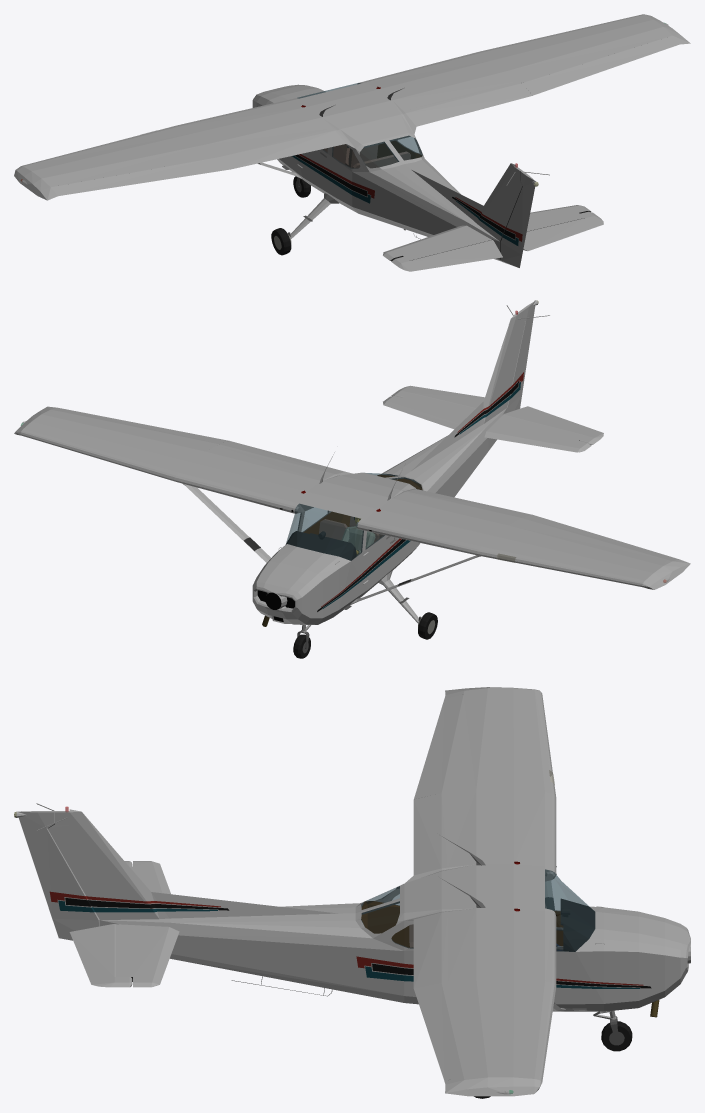
3 renders of one model, top to bottom at view 1: azimuth 30°, elevation 25°; view 2: azimuth 150°, elevation 25°; view 3: azimuth 270°, elevation 25°, orthographic. The views are drawn at different scales.
Visible parts, largest first — view 1: ShapeIndexedFaceSet.048_ShapeIndexedFaceSet.049, ShapeIndexedFaceSet_ShapeIndexedFaceSet.001, ShapeIndexedFaceSet.047_ShapeIndexedFaceSet.048, ShapeIndexedFaceSet.060_ShapeIndexedFaceSet.061, ShapeIndexedFaceSet.059_ShapeIndexedFaceSet.060, ShapeIndexedFaceSet.055_ShapeIndexedFaceSet.056, ShapeIndexedFaceSet.057_ShapeIndexedFaceSet.058, ShapeIndexedFaceSet.147_ShapeIndexedFaceSet.148, ShapeIndexedFaceSet.038_ShapeIndexedFaceSet.039, ShapeIndexedFaceSet.030_ShapeIndexedFaceSet.031; view 2: ShapeIndexedFaceSet.048_ShapeIndexedFaceSet.049, ShapeIndexedFaceSet_ShapeIndexedFaceSet.001, ShapeIndexedFaceSet.147_ShapeIndexedFaceSet.148, ShapeIndexedFaceSet.047_ShapeIndexedFaceSet.048, ShapeIndexedFaceSet.010_ShapeIndexedFaceSet.011, ShapeIndexedFaceSet.053_ShapeIndexedFaceSet.054, ShapeIndexedFaceSet.038_ShapeIndexedFaceSet.039, ShapeIndexedFaceSet.060_ShapeIndexedFaceSet.061, ShapeIndexedFaceSet.059_ShapeIndexedFaceSet.060, ShapeIndexedFaceSet.055_ShapeIndexedFaceSet.056, ShapeIndexedFaceSet.057_ShapeIndexedFaceSet.058; view 3: ShapeIndexedFaceSet_ShapeIndexedFaceSet.001, ShapeIndexedFaceSet.048_ShapeIndexedFaceSet.049, ShapeIndexedFaceSet.147_ShapeIndexedFaceSet.148, ShapeIndexedFaceSet.038_ShapeIndexedFaceSet.039, ShapeIndexedFaceSet.059_ShapeIndexedFaceSet.060, ShapeIndexedFaceSet.060_ShapeIndexedFaceSet.061, ShapeIndexedFaceSet.057_ShapeIndexedFaceSet.058, ShapeIndexedFaceSet.047_ShapeIndexedFaceSet.048, ShapeIndexedFaceSet.055_ShapeIndexedFaceSet.056, ShapeIndexedFaceSet.010_ShapeIndexedFaceSet.011, ShapeIndexedFaceSet.026_ShapeIndexedFaceSet.027.
Part boxes in pixels (x1,y1,x2,y2): ShapeIndexedFaceSet.048_ShapeIndexedFaceSet.049: (14, 14, 690, 200); ShapeIndexedFaceSet_ShapeIndexedFaceSet.001: (252, 82, 590, 261); ShapeIndexedFaceSet.047_ShapeIndexedFaceSet.048: (391, 211, 603, 271); ShapeIndexedFaceSet.060_ShapeIndexedFaceSet.061: (404, 81, 532, 126); ShapeIndexedFaceSet.059_ShapeIndexedFaceSet.060: (217, 128, 345, 169); ShapeIndexedFaceSet.055_ShapeIndexedFaceSet.056: (57, 157, 229, 194); ShapeIndexedFaceSet.057_ShapeIndexedFaceSet.058: (522, 37, 673, 95); ShapeIndexedFaceSet.147_ShapeIndexedFaceSet.148: (297, 83, 422, 168); ShapeIndexedFaceSet.038_ShapeIndexedFaceSet.039: (500, 170, 535, 267); ShapeIndexedFaceSet.030_ShapeIndexedFaceSet.031: (323, 144, 410, 168); ShapeIndexedFaceSet.048_ShapeIndexedFaceSet.049: (14, 406, 690, 589); ShapeIndexedFaceSet_ShapeIndexedFaceSet.001: (252, 311, 591, 624); ShapeIndexedFaceSet.147_ShapeIndexedFaceSet.148: (286, 473, 422, 560); ShapeIndexedFaceSet.047_ShapeIndexedFaceSet.048: (391, 385, 603, 445); ShapeIndexedFaceSet.010_ShapeIndexedFaceSet.011: (286, 531, 356, 560); ShapeIndexedFaceSet.053_ShapeIndexedFaceSet.054: (183, 484, 480, 605); ShapeIndexedFaceSet.038_ShapeIndexedFaceSet.039: (507, 300, 538, 412); ShapeIndexedFaceSet.060_ShapeIndexedFaceSet.061: (217, 441, 345, 475); ShapeIndexedFaceSet.059_ShapeIndexedFaceSet.060: (404, 489, 532, 519); ShapeIndexedFaceSet.055_ShapeIndexedFaceSet.056: (522, 515, 674, 559); ShapeIndexedFaceSet.057_ShapeIndexedFaceSet.058: (57, 409, 229, 443); ShapeIndexedFaceSet_ShapeIndexedFaceSet.001: (48, 809, 690, 1011); ShapeIndexedFaceSet.048_ShapeIndexedFaceSet.049: (405, 687, 556, 1096); ShapeIndexedFaceSet.147_ShapeIndexedFaceSet.148: (361, 869, 594, 951); ShapeIndexedFaceSet.038_ShapeIndexedFaceSet.039: (16, 811, 99, 940); ShapeIndexedFaceSet.059_ShapeIndexedFaceSet.060: (413, 793, 447, 875); ShapeIndexedFaceSet.060_ShapeIndexedFaceSet.061: (413, 911, 447, 988); ShapeIndexedFaceSet.057_ShapeIndexedFaceSet.058: (414, 983, 463, 1080); ShapeIndexedFaceSet.047_ShapeIndexedFaceSet.048: (69, 861, 132, 987); ShapeIndexedFaceSet.055_ShapeIndexedFaceSet.056: (414, 694, 463, 799); ShapeIndexedFaceSet.010_ShapeIndexedFaceSet.011: (560, 898, 595, 951); ShapeIndexedFaceSet.026_ShapeIndexedFaceSet.027: (361, 901, 563, 947).
Bounding box in the file's own units: 110 × 31.11 × 77.9.
